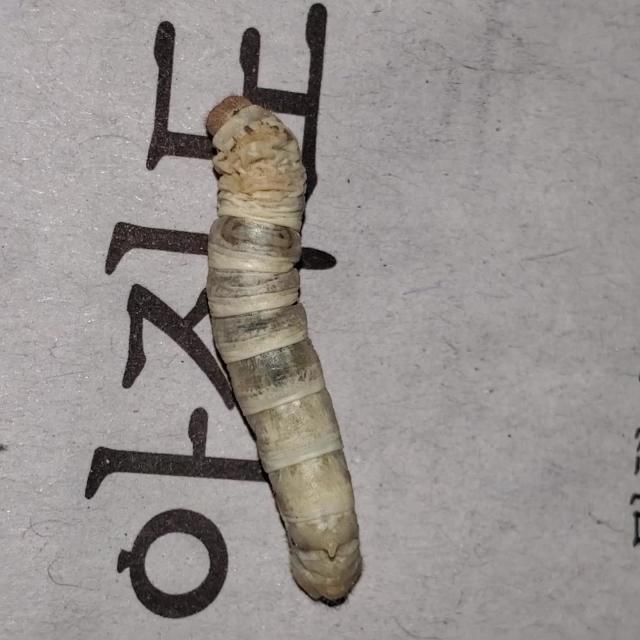Grasserie: (176, 64, 396, 624)
